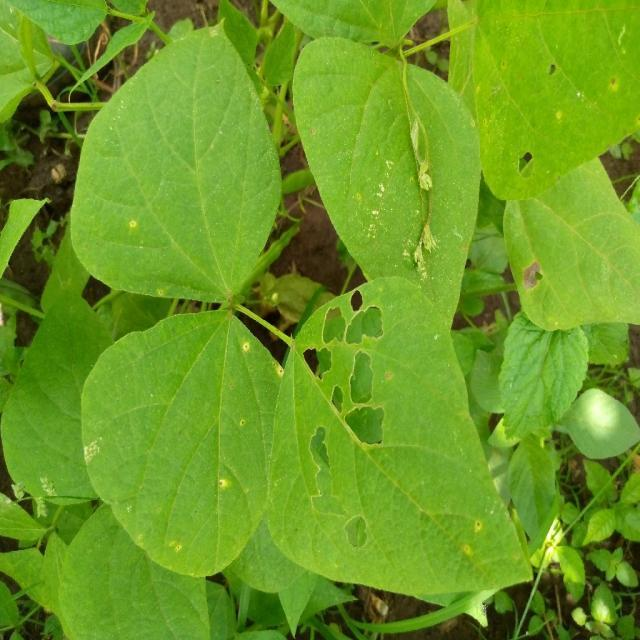hawar: (300, 290, 418, 556), (355, 144, 434, 277)
sehat: (102, 98, 275, 290), (105, 353, 232, 541), (309, 48, 392, 130)
